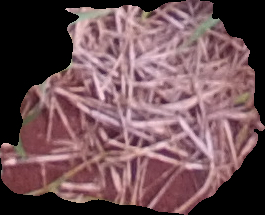soil: (3, 3, 264, 212)
